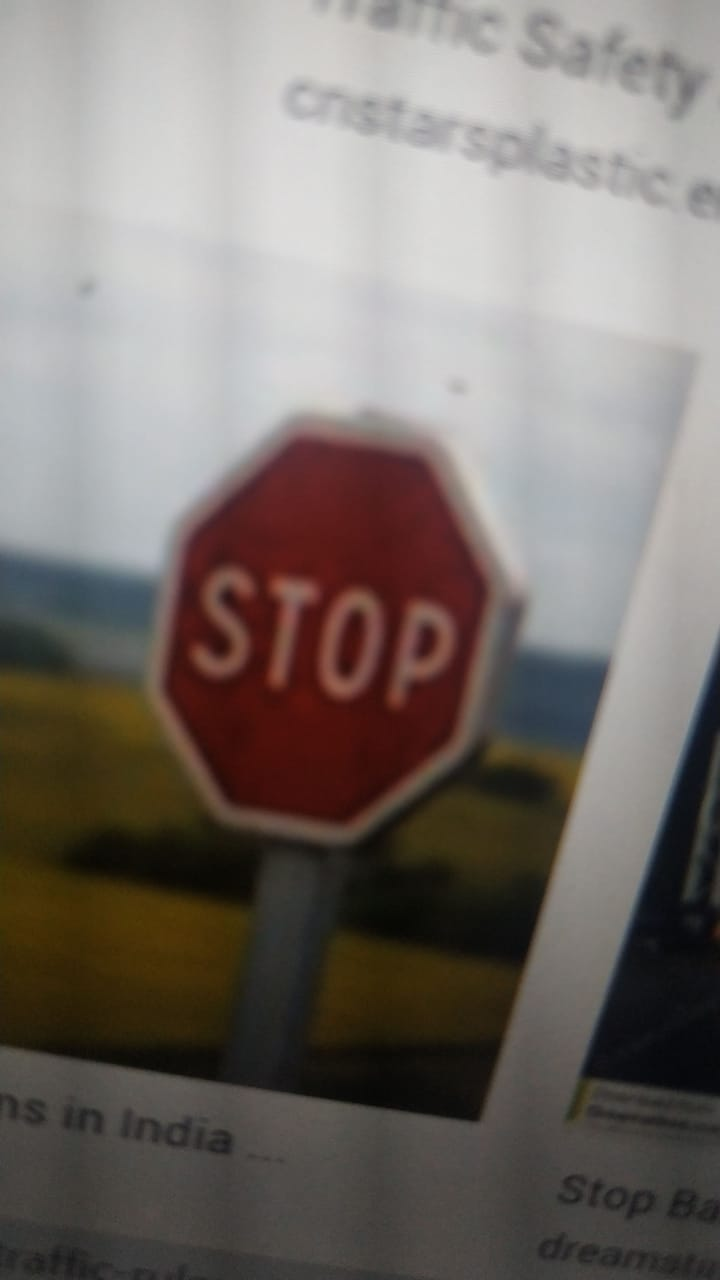STOP: (118, 390, 540, 850)
